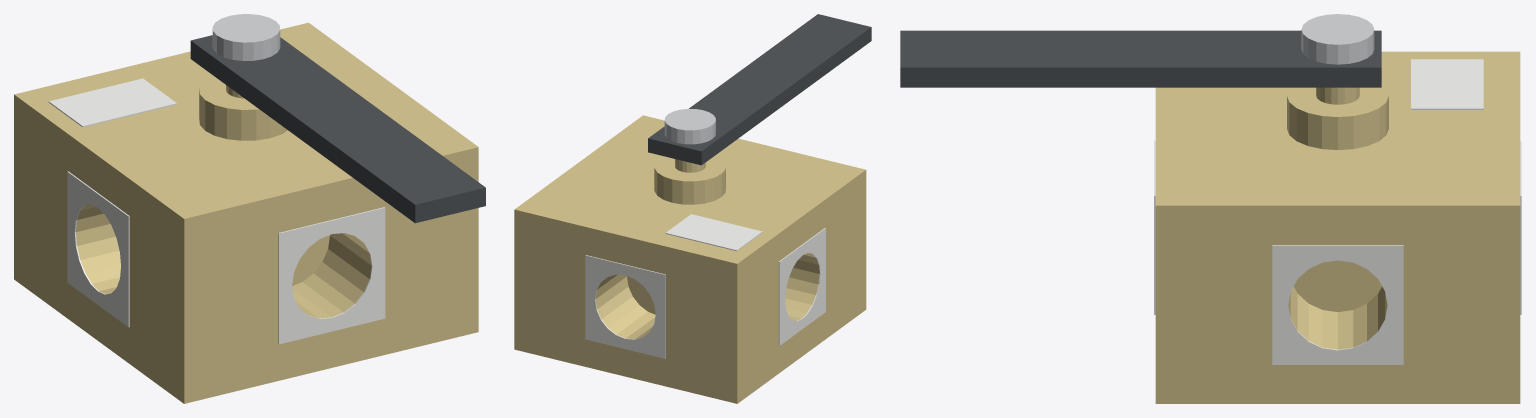
File: valve-ball-42.glb
3 views of the same model, side by side, from view 1: azimuth 30°, elevation 25°; view 2: azimuth 150°, elevation 25°; view 3: azimuth 270°, elevation 25° (orthographic). The views are drawn at different scales.
Visible parts, largest first — view 1: body, lever, port-4, port-1; view 2: body, lever, port-2, port-1; view 3: body, lever, port-3.
Part boxes in pixels (x1,y1,x2,y2): body: (14,22,478,403); lever: (190,14,485,223); port-4: (278,207,385,344); port-1: (67,171,129,327); body: (514,115,866,403); lever: (648,14,871,172); port-2: (585,255,665,358); port-1: (778,228,825,345); body: (1155,51,1520,403); lever: (900,14,1381,104); port-3: (1272,245,1403,364).
Size of what is drawn, in the model's own units: 0.0504 by 0.045 by 0.0852.
